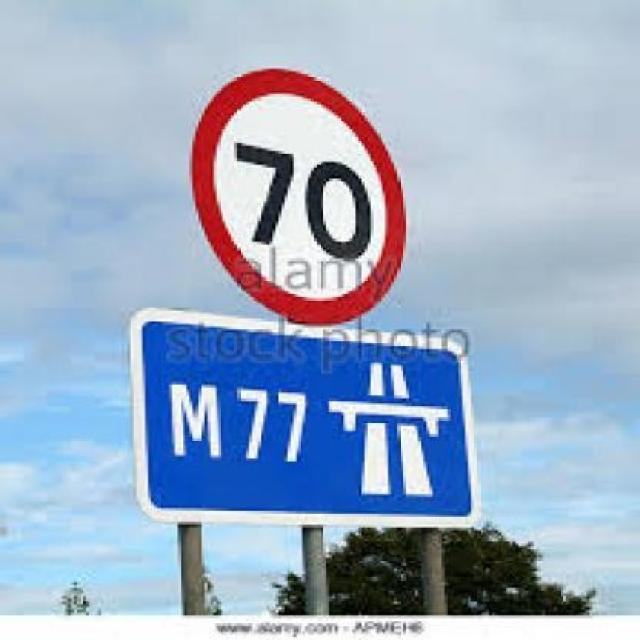forb_speed_over_70: (186, 68, 408, 320)
